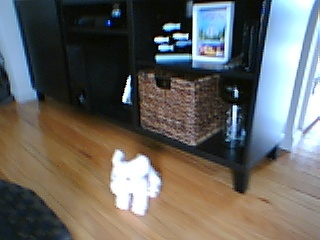piggy: (108, 148, 164, 218)
